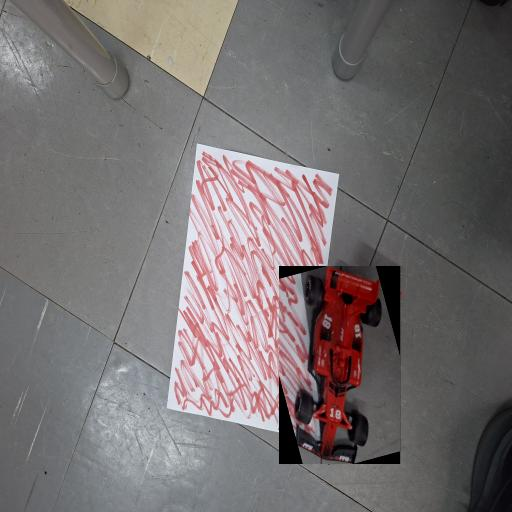carro: (280, 267, 401, 463)
